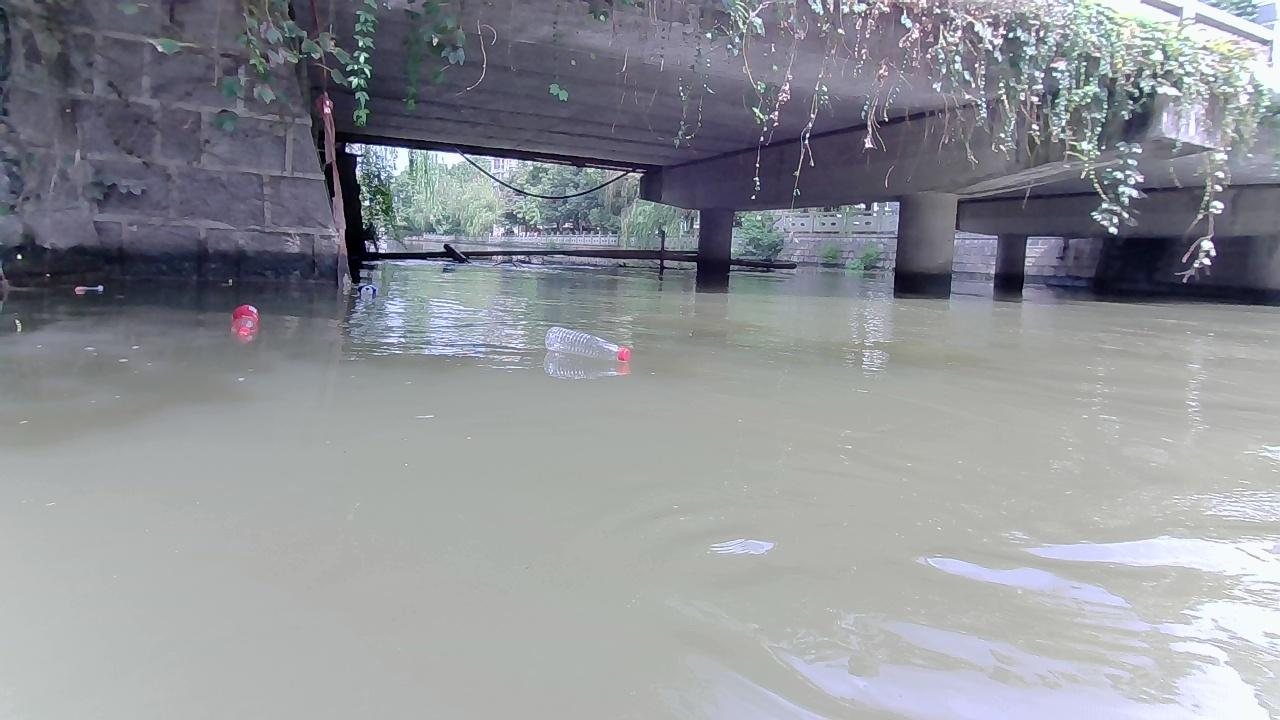bottle: (544, 324, 630, 361), (230, 304, 257, 334), (357, 283, 376, 293)
